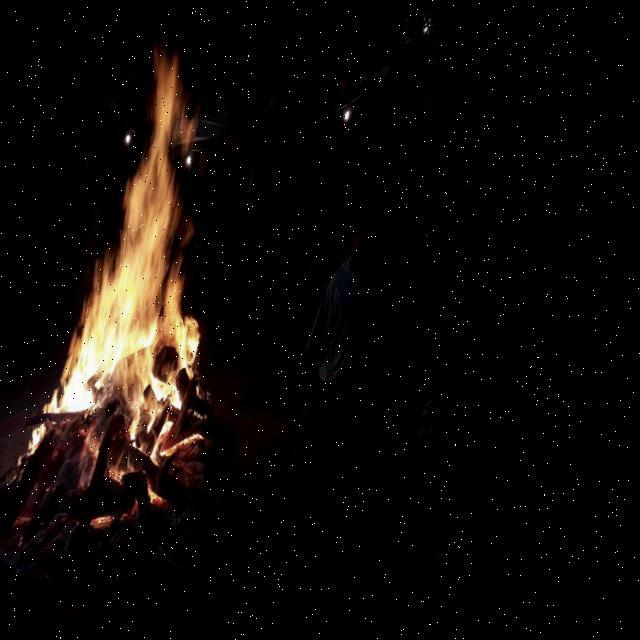Fire: (27, 38, 262, 500), (158, 489, 183, 514), (104, 516, 130, 532)
